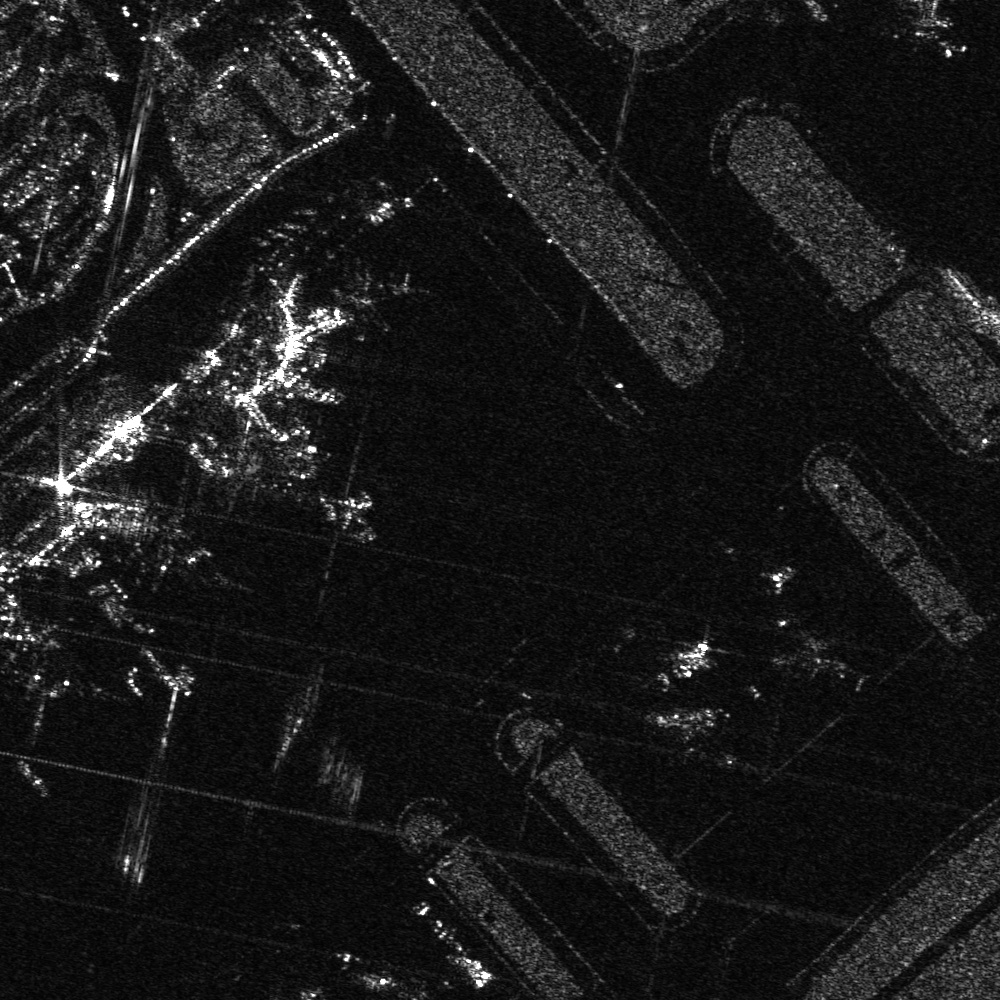Boeing737: (775, 605, 873, 691), (640, 689, 737, 770), (316, 488, 387, 546), (876, 1, 947, 39)
